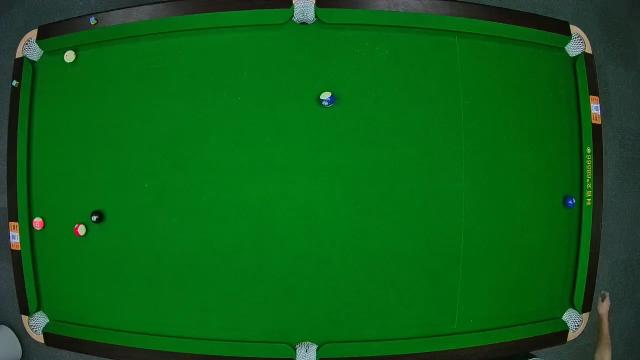bag1: (22, 38, 44, 60)
bag2: (291, 0, 317, 26)
bag3: (566, 29, 588, 57)
bag4: (29, 310, 49, 334)
bag5: (294, 340, 320, 360)
bag6: (563, 308, 585, 332)
ball0: (62, 48, 78, 64)
ball10: (318, 90, 336, 108)
ball11: (72, 223, 88, 237)
ball12: (31, 216, 45, 232)
ball2: (563, 195, 577, 209)
ball8: (90, 208, 104, 224)
